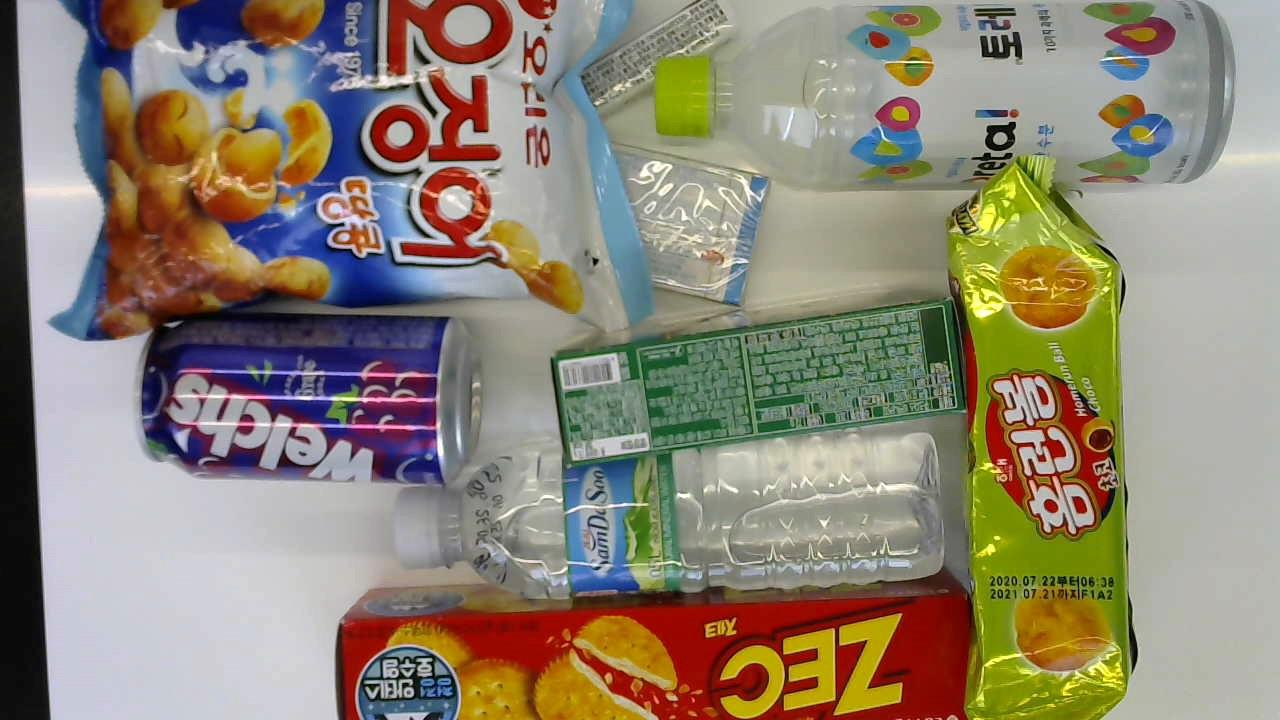ID_gum: (578, 136, 773, 313)
couque_coffee: (546, 274, 965, 466)
homerunball: (950, 148, 1143, 720)
samdasu: (385, 427, 940, 619)
spearmint: (582, 0, 736, 116)
squid_peanut: (37, 0, 634, 343)
toreta: (655, 0, 1232, 194)
welchs: (139, 316, 485, 480)
zec: (333, 584, 969, 720)
